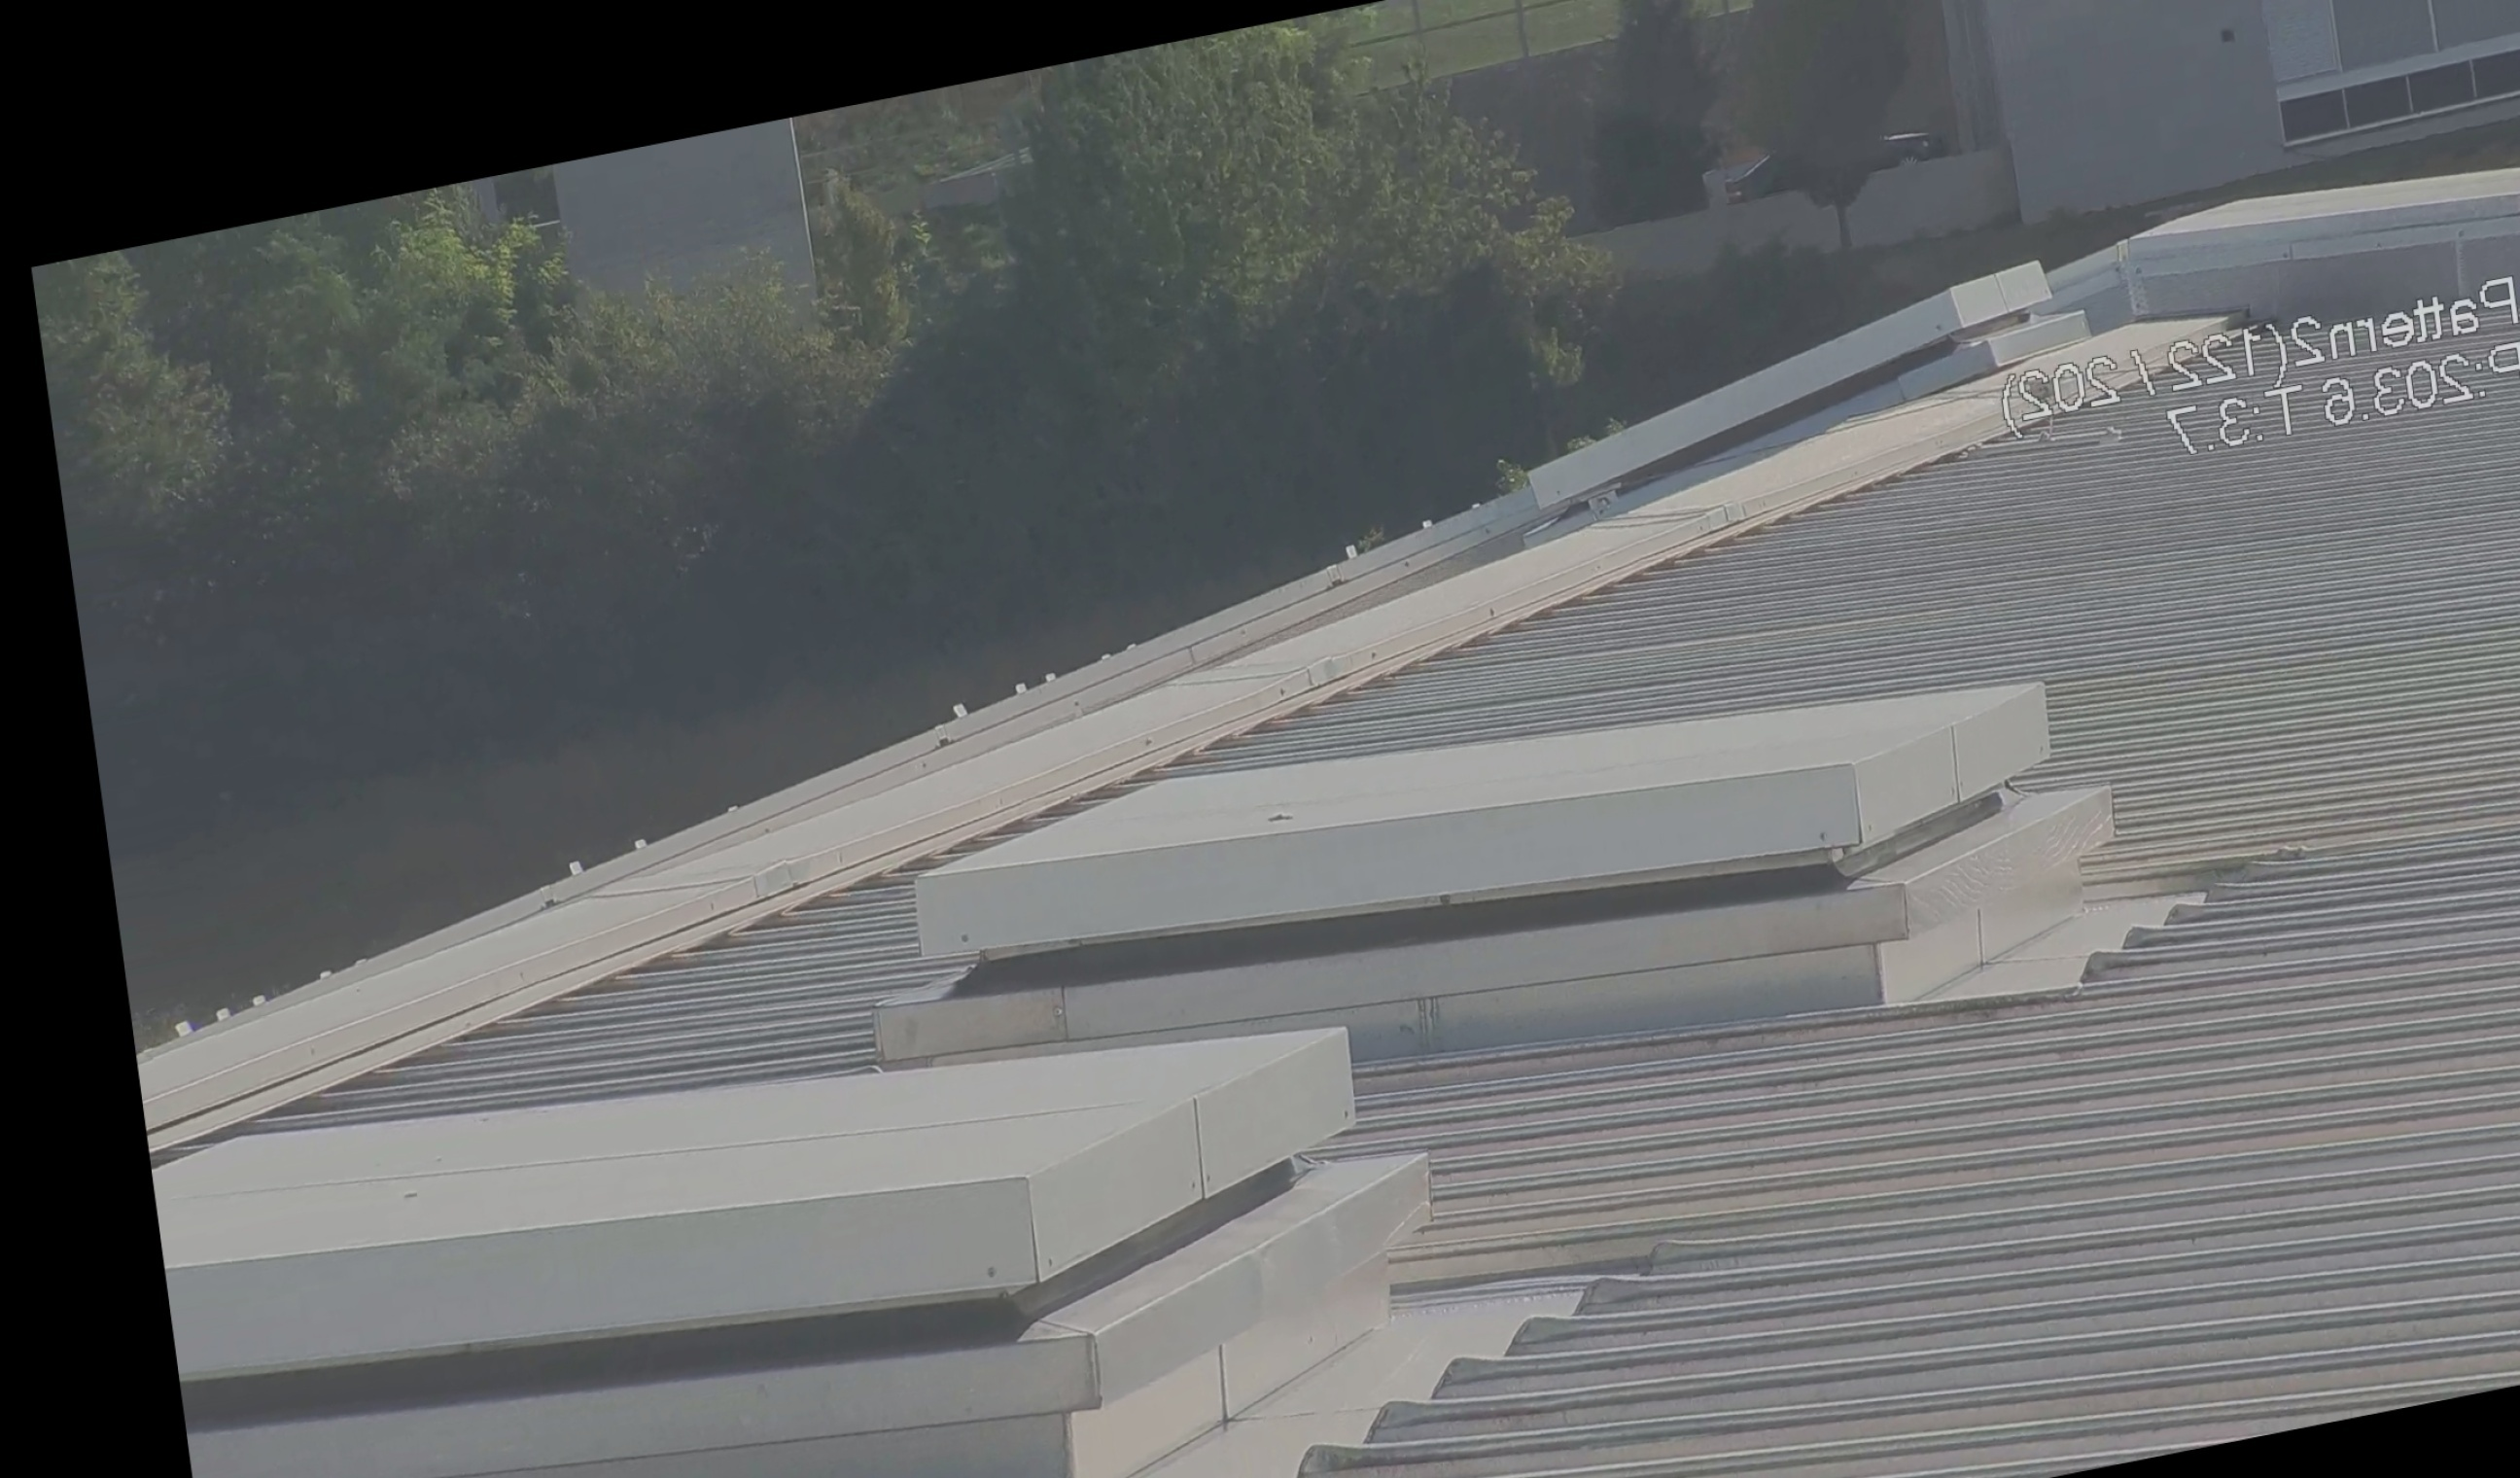Other: (1709, 76, 1952, 260)
